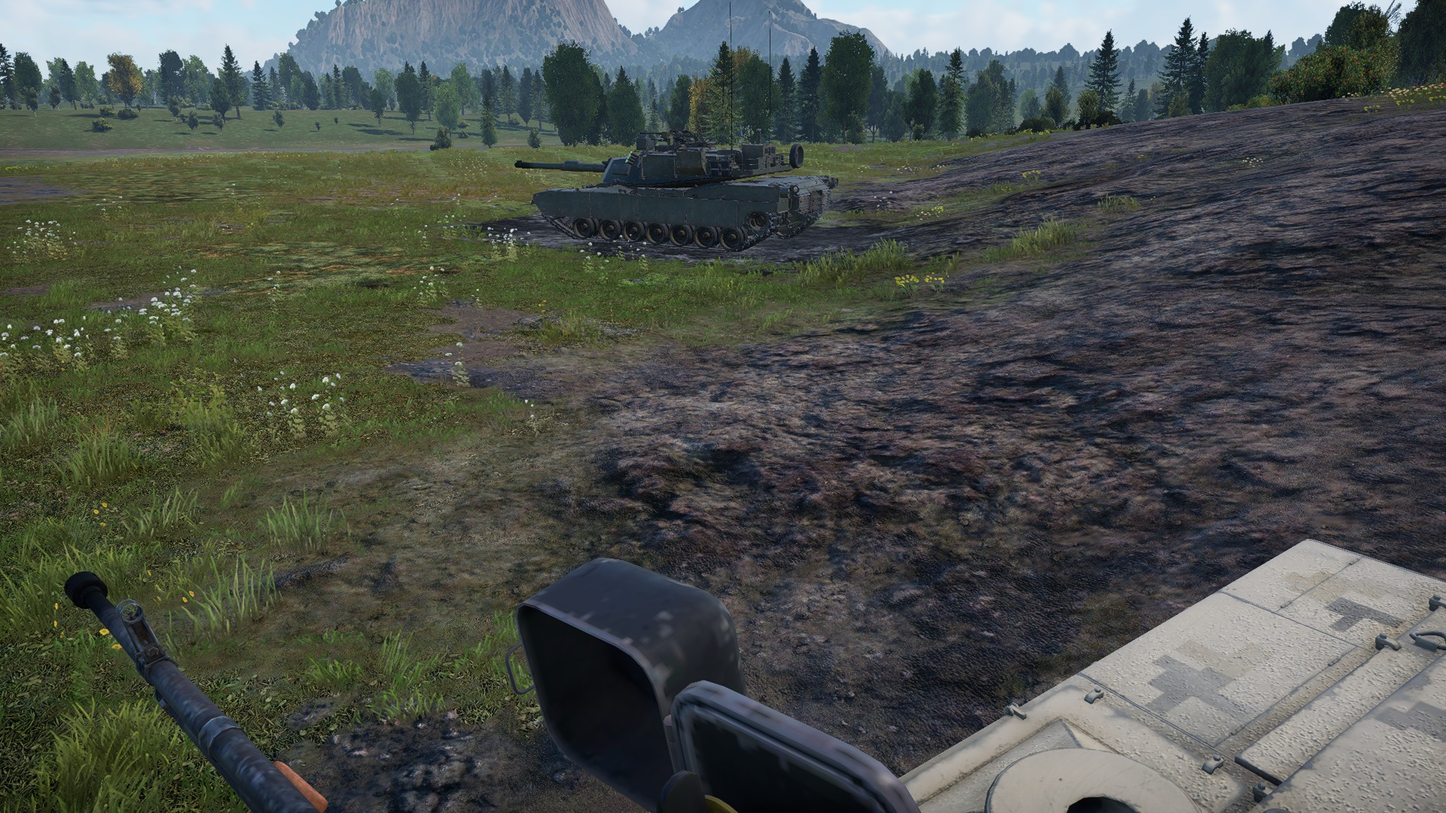abrams: (514, 131, 840, 252)
